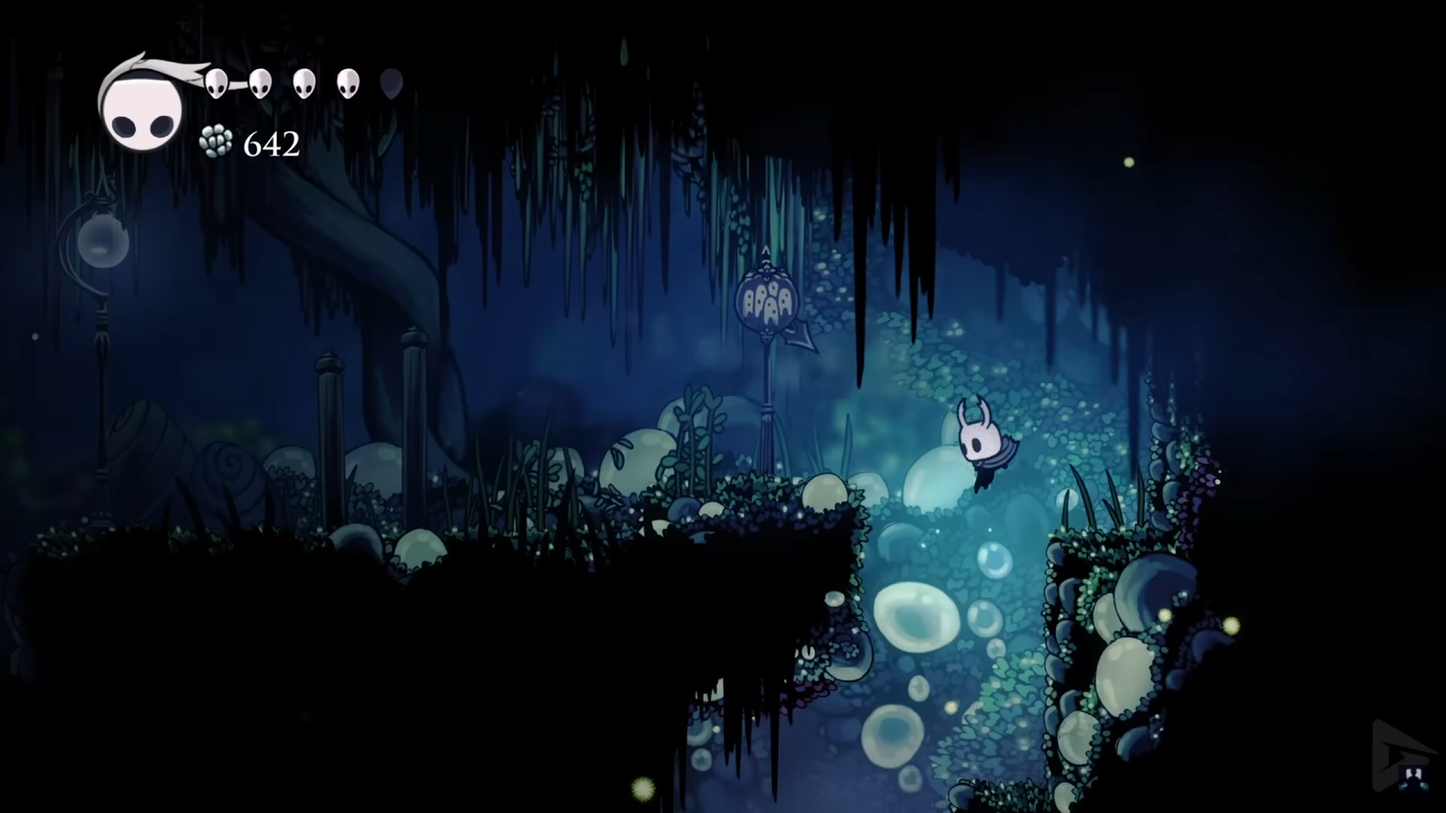HK: (950, 391, 1020, 498)
